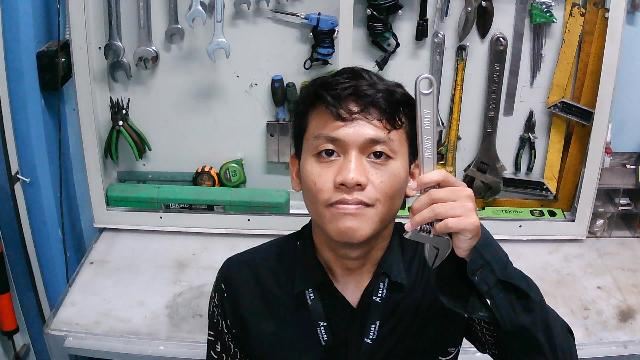kunci_inggris: (402, 73, 457, 268)
